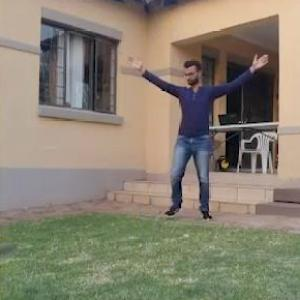takeoff: (125, 49, 274, 216)
